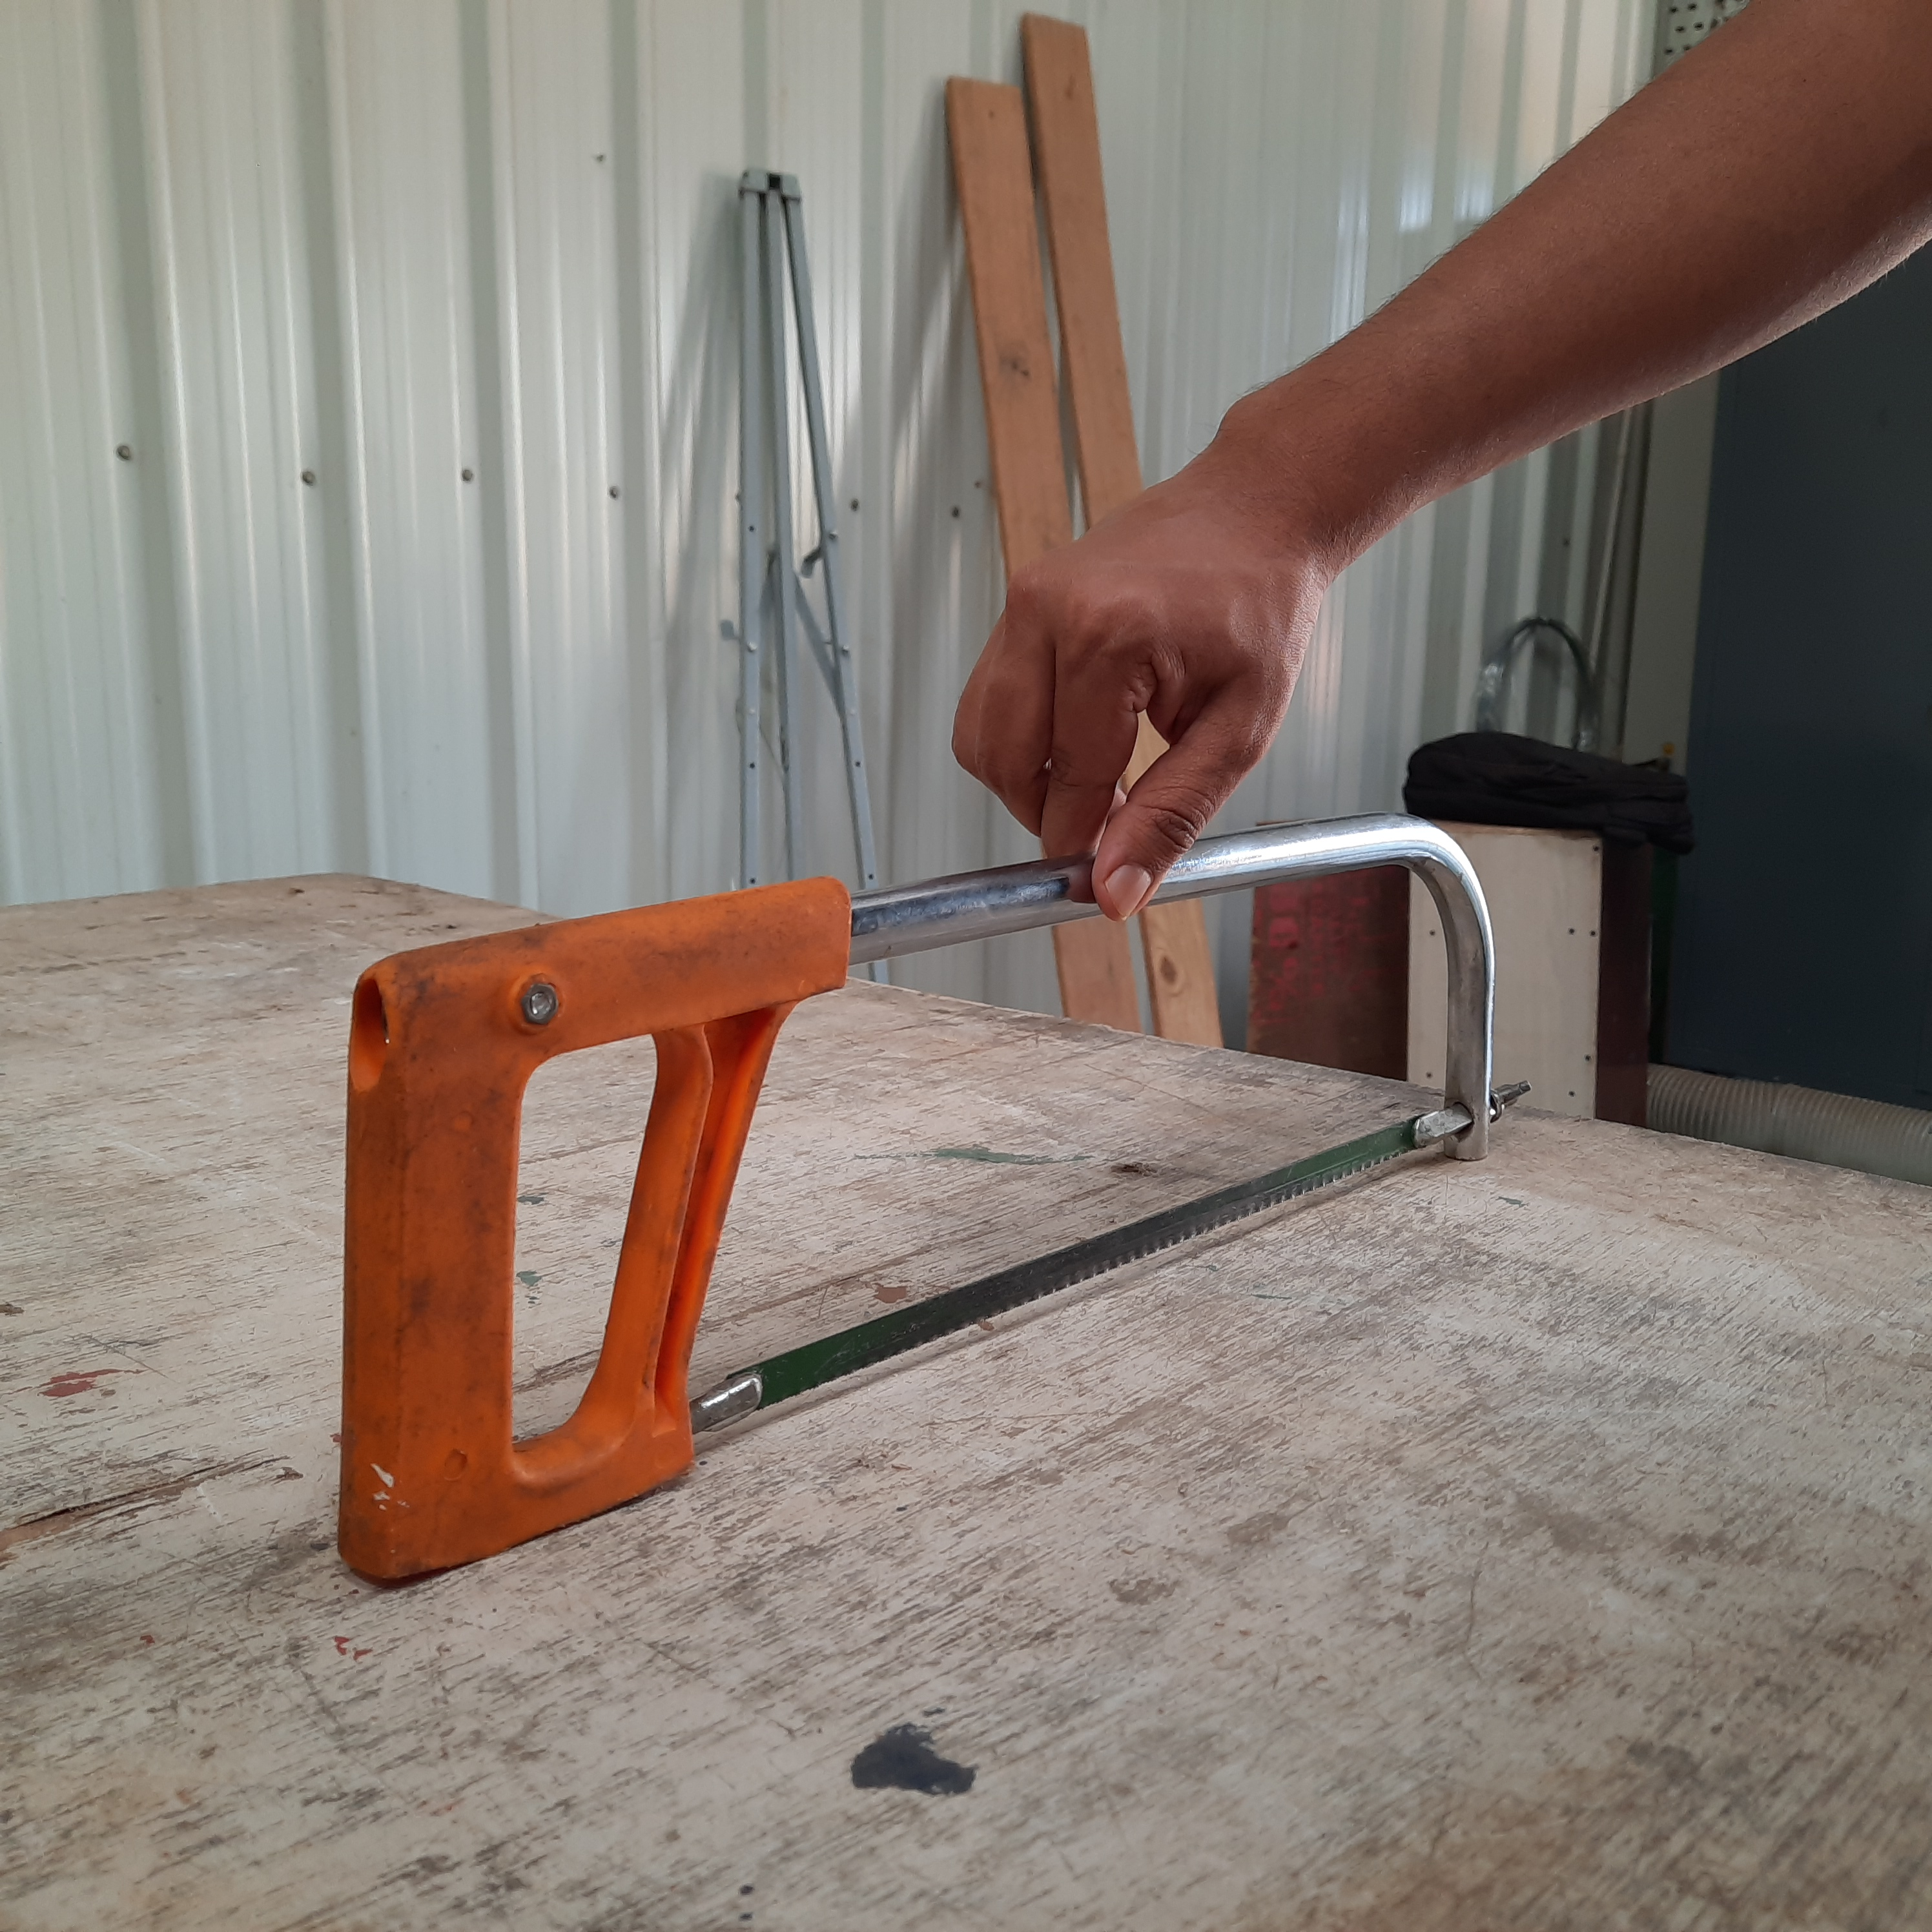Hexaframe: (228, 798, 1573, 1585)
